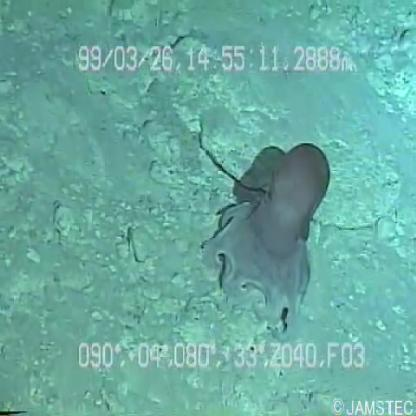Bio: (200, 137, 336, 341)
